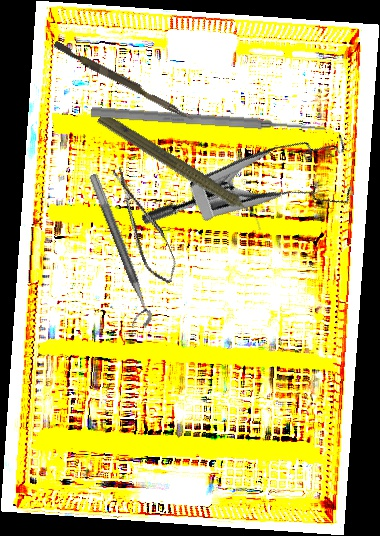Fixation Ring: (76, 172, 156, 333)
Handpiece: (92, 108, 272, 233)
Micro Scissor: (105, 161, 183, 289)
Pusher: (51, 40, 198, 123), (90, 104, 326, 137)
Speculum: (138, 97, 374, 303)
